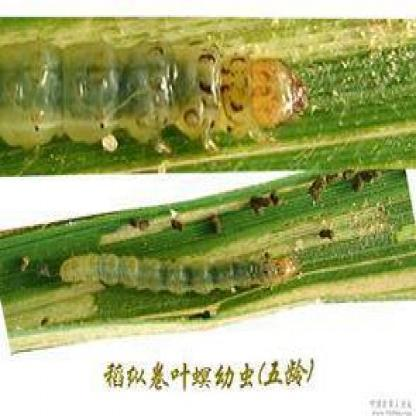leaf-folder: (0, 19, 314, 156), (56, 233, 306, 306)
